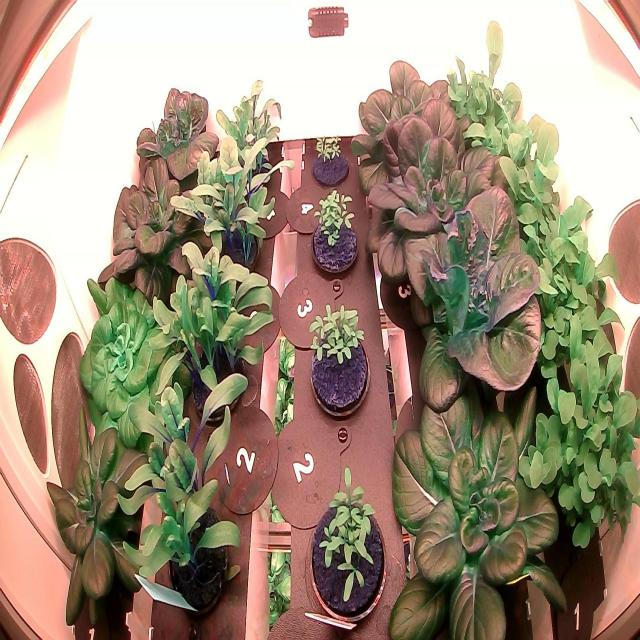germination: (298, 300, 379, 430), (305, 182, 364, 292), (305, 128, 351, 190)
young: (380, 358, 584, 640), (388, 176, 552, 426), (354, 92, 530, 293), (42, 417, 166, 639), (86, 150, 218, 316), (76, 270, 178, 450), (346, 51, 480, 180), (129, 75, 223, 192)
